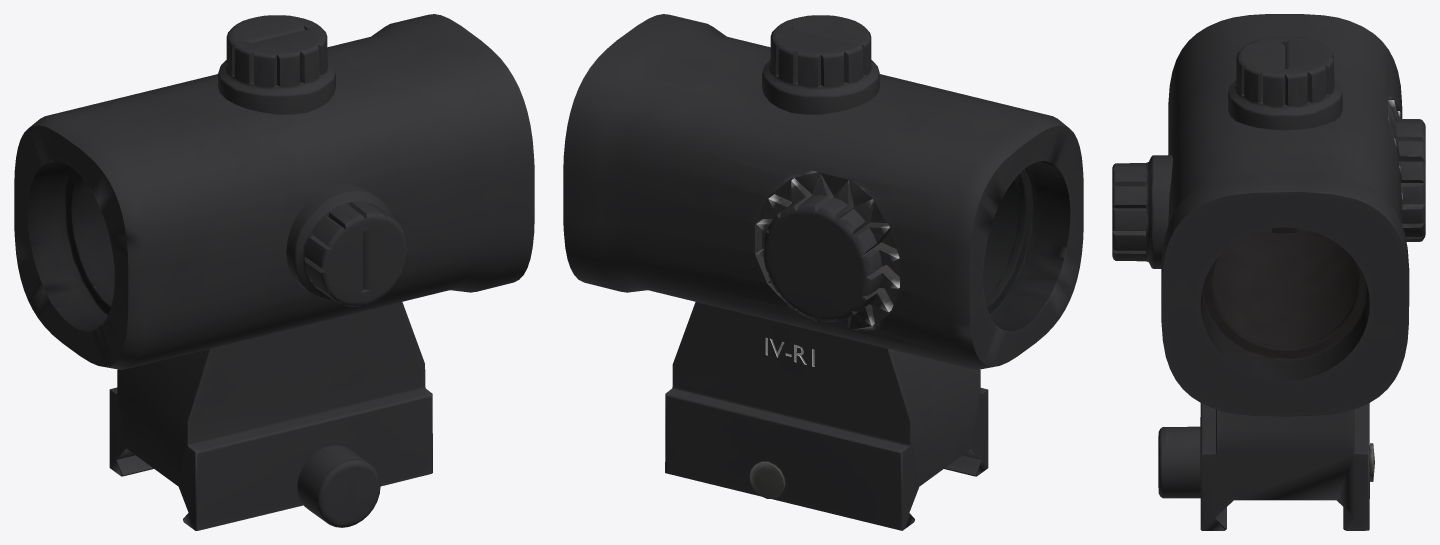
The model's file is IVR1_RedDot_LOD1.glb.
3 renders of one model, left to right at view 1: azimuth 30°, elevation 25°; view 2: azimuth 150°, elevation 25°; view 3: azimuth 270°, elevation 25°, orthographic. The views are drawn at different scales.
Parts seen in each view (by area): view 1: SM_IVR1_RedDot_LOD1; view 2: SM_IVR1_RedDot_LOD1; view 3: SM_IVR1_RedDot_LOD1, IVR1_Glass_LOD1.
Part boxes in pixels (x1,y1,x2,y2): SM_IVR1_RedDot_LOD1: (14,14,534,530); SM_IVR1_RedDot_LOD1: (563,14,1083,530); SM_IVR1_RedDot_LOD1: (1112,14,1425,530); IVR1_Glass_LOD1: (1202,228,1363,360).
Size of the model in its own units: 0.069 by 0.0739 by 0.0482.
Materials: 3 (1 with a texture image).
